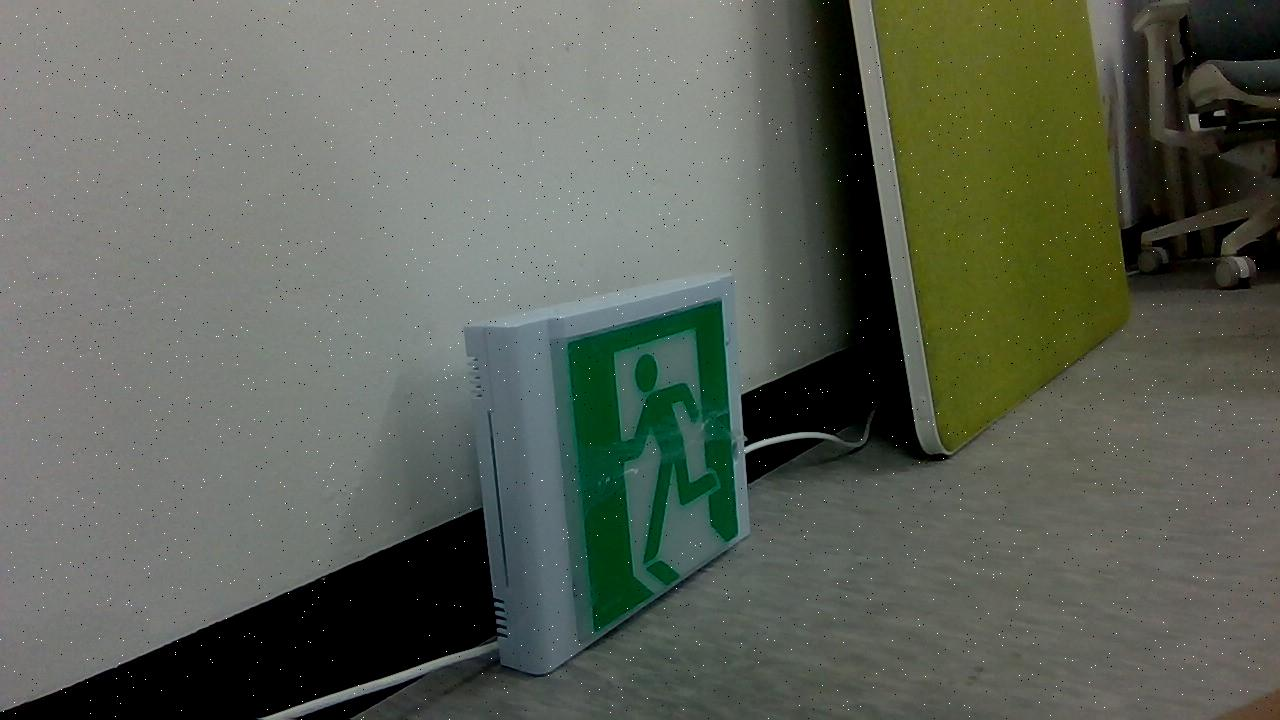emergency_exit: (847, 0, 1133, 460), (463, 272, 752, 676)
